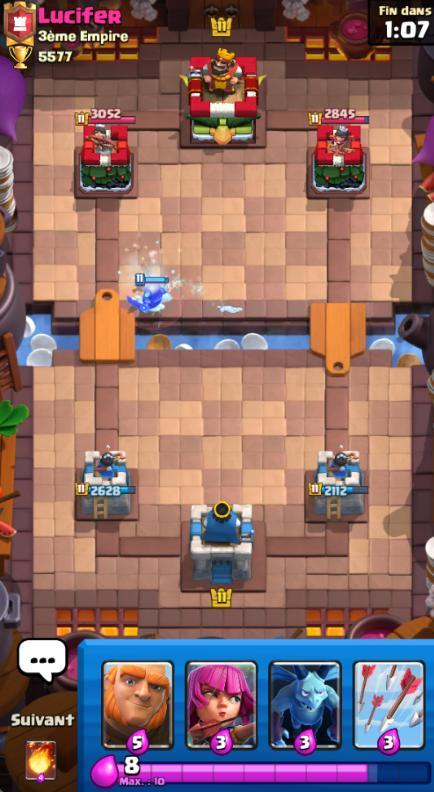player_mini_pekka: (123, 271, 175, 317)
